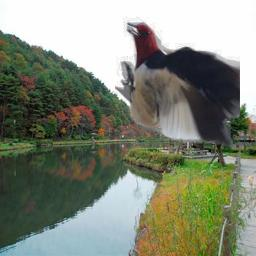Woodpecker: (115, 16, 240, 146)
